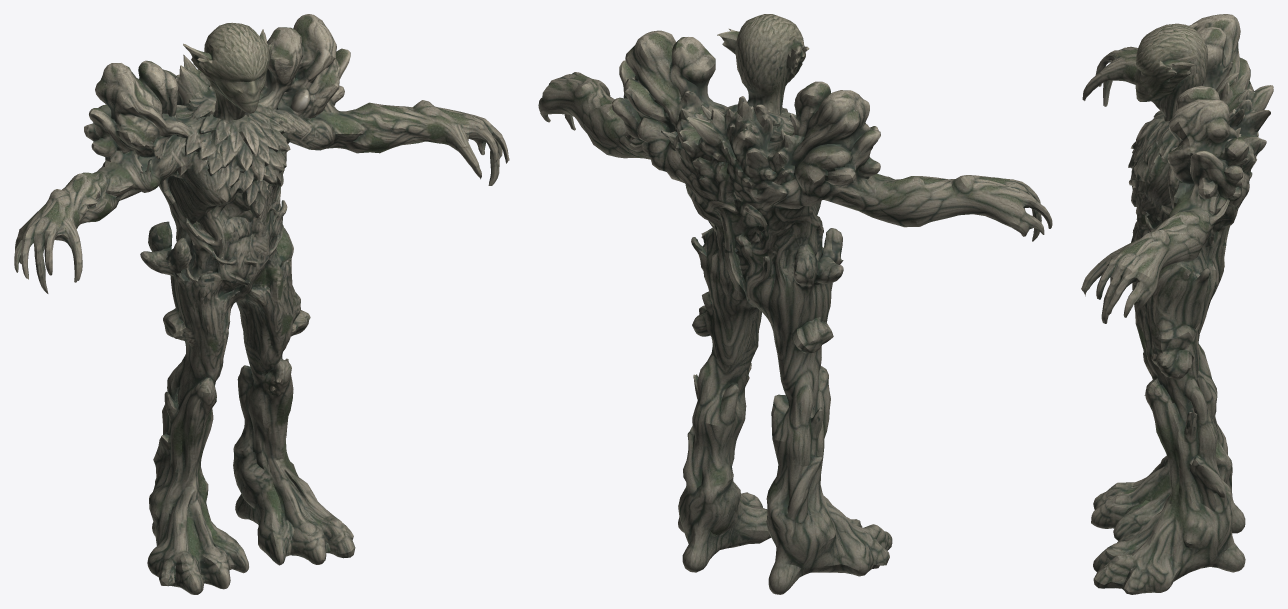
The model's file is hojarasquin.glb.
The picture shows the model from 3 angles, left to right: view 1: azimuth 30°, elevation 25°; view 2: azimuth 150°, elevation 25°; view 3: azimuth 270°, elevation 25°; orthographic projection. The views are drawn at different scales.
Visible parts, largest first — view 1: Hojarasquin.001; view 2: Hojarasquin.001; view 3: Hojarasquin.001.
Boxes of the visible parts, box(x1,y1,x2,y2) form: Hojarasquin.001: box(14, 14, 509, 594); Hojarasquin.001: box(538, 14, 1052, 594); Hojarasquin.001: box(1081, 14, 1273, 594).
Size of the model in its own units: 0.9708 by 1 by 0.3319.
1 material, 1 textured.
